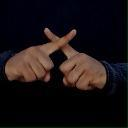hand: (4, 27, 77, 83), (43, 27, 106, 91)
